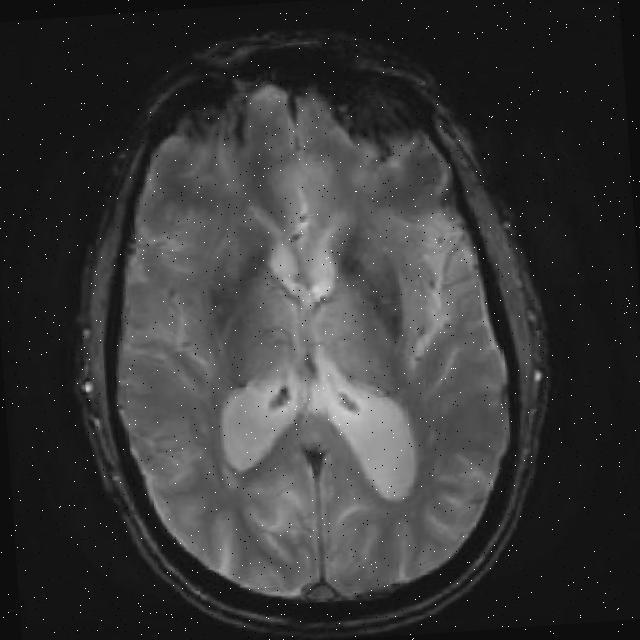MCI: (322, 223, 392, 315), (207, 235, 266, 340)
